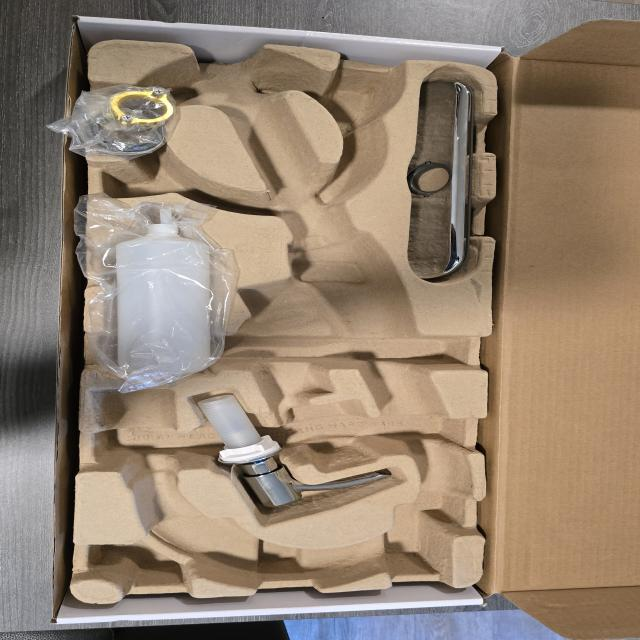1m: (98, 45, 469, 587)
2: (197, 395, 391, 510)
3: (111, 205, 214, 377)
4: (409, 80, 473, 280)
5m: (326, 73, 386, 123)
6: (46, 85, 175, 163)
7m: (102, 160, 243, 210)
